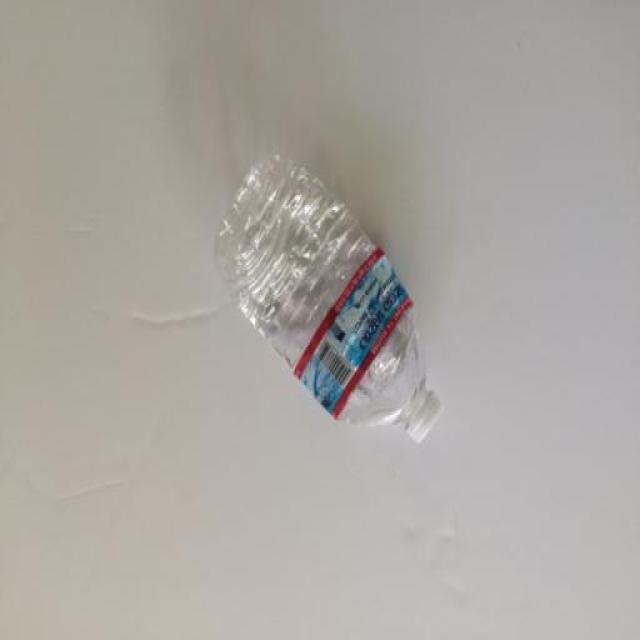Plastic: (215, 157, 442, 445)
